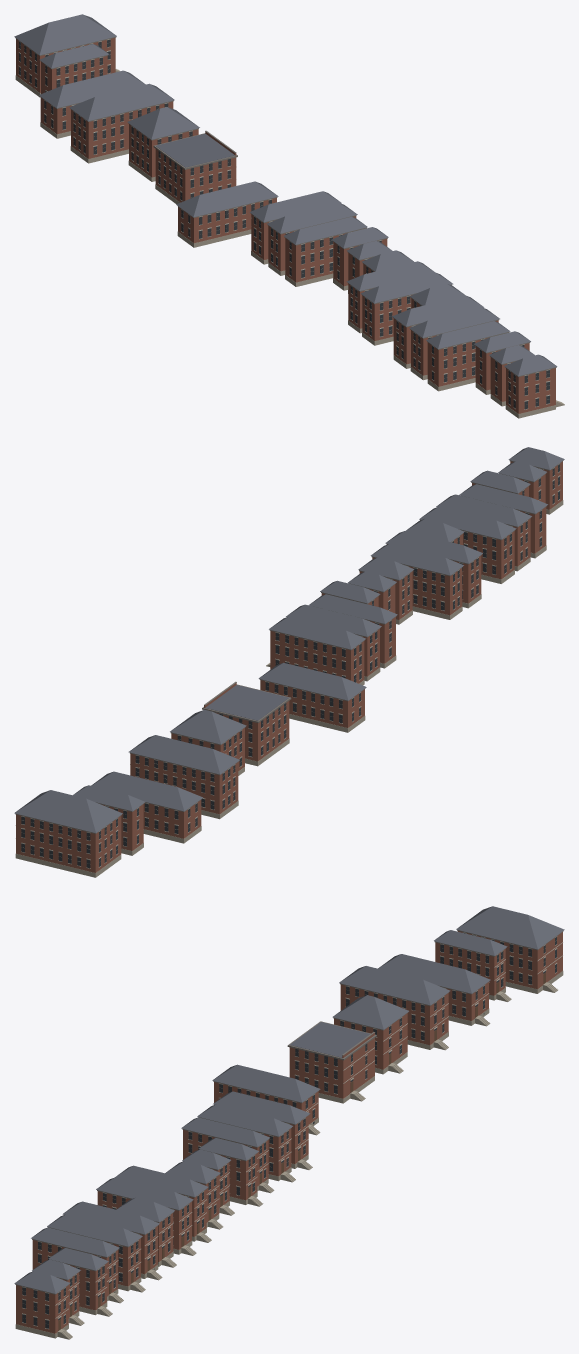
The model's file is indiana_east_frontage_18th_20th_background_row__draft_1904.glb.
3 views of the same model, one above another, from view 1: azimuth 30°, elevation 25°; view 2: azimuth 150°, elevation 25°; view 3: azimuth 330°, elevation 25° (orthographic). The views are drawn at different scales.
Visible parts, largest first — view 1: indiana_east_frontage_18th_20th_background_row__draft_1904; view 2: indiana_east_frontage_18th_20th_background_row__draft_1904; view 3: indiana_east_frontage_18th_20th_background_row__draft_1904.
Boxes of the visible parts, x1,y1,x2,y2 form: indiana_east_frontage_18th_20th_background_row__draft_1904: (14, 14, 564, 418); indiana_east_frontage_18th_20th_background_row__draft_1904: (14, 447, 564, 877); indiana_east_frontage_18th_20th_background_row__draft_1904: (14, 906, 564, 1339).
Bounding box in the file's own units: 37.27 × 17.2 × 242.
